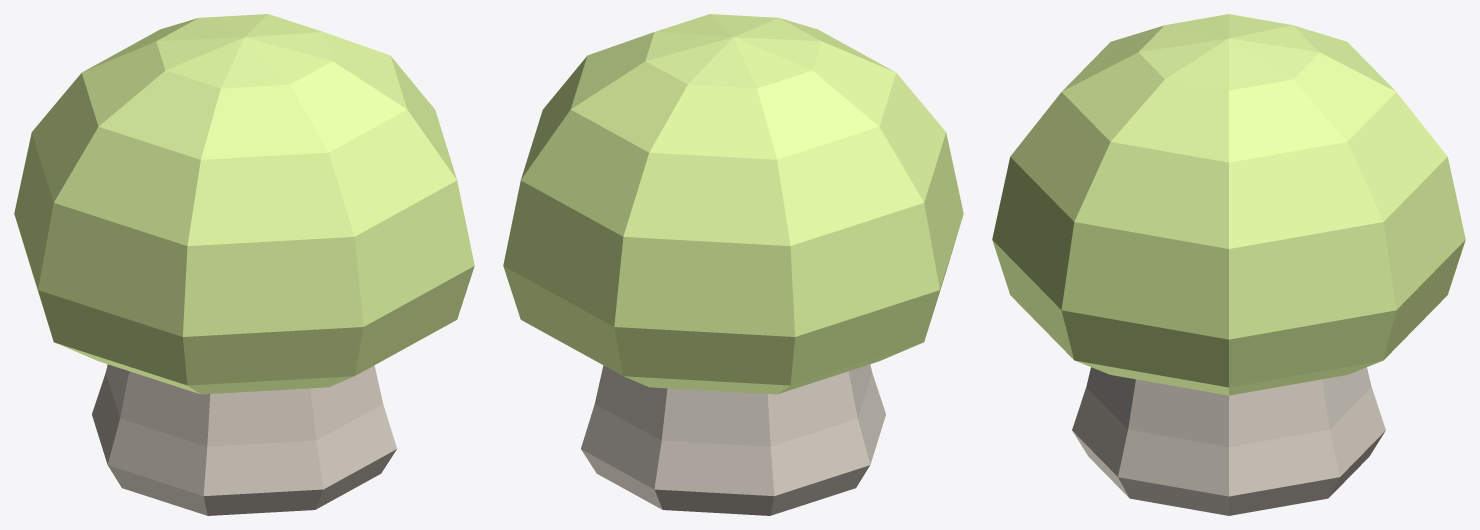
File: OBJ_Big_Mushrooms_Little.obj
3 views of the same model, side by side, from view 1: azimuth 30°, elevation 25°; view 2: azimuth 150°, elevation 25°; view 3: azimuth 270°, elevation 25° (orthographic).
Parts seen in each view (by area): view 1: pSphere6; view 2: pSphere6; view 3: pSphere6.
Boxes of the visible parts, x1,y1,x2,y2 form: pSphere6: [14, 14, 474, 515]; pSphere6: [503, 14, 963, 515]; pSphere6: [992, 14, 1465, 515].
Bounding box in the file's own units: 72.51 × 70.98 × 72.51.
